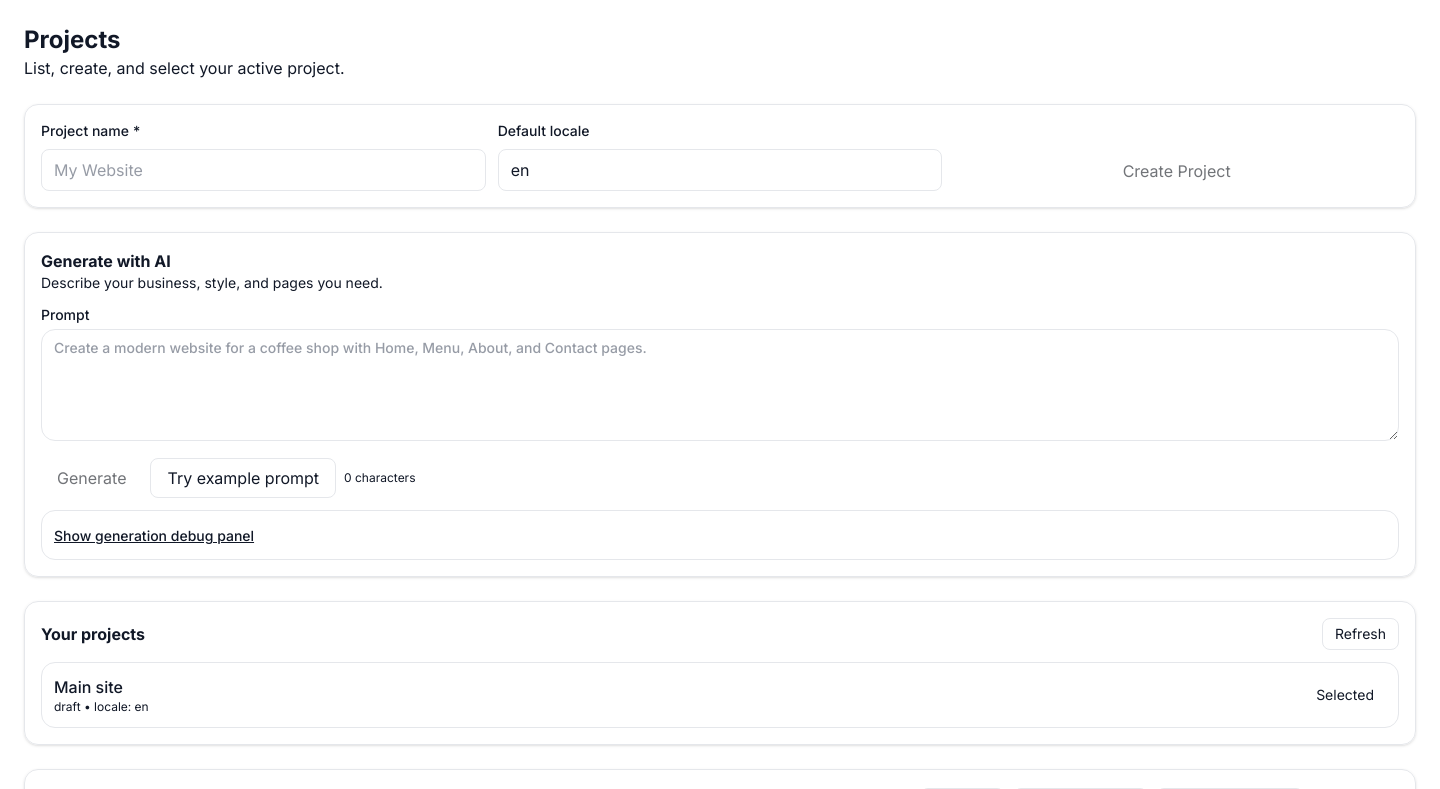
Test: ProjectsApiScreen toasts › shows generation failure message from latest status job
Replace the text in the text box named "AI prompt" with "Create a modern SaaS site for a startup with Home, Pricing, About, and Contact pages." at point(720, 385), box [41,329,1399,441]
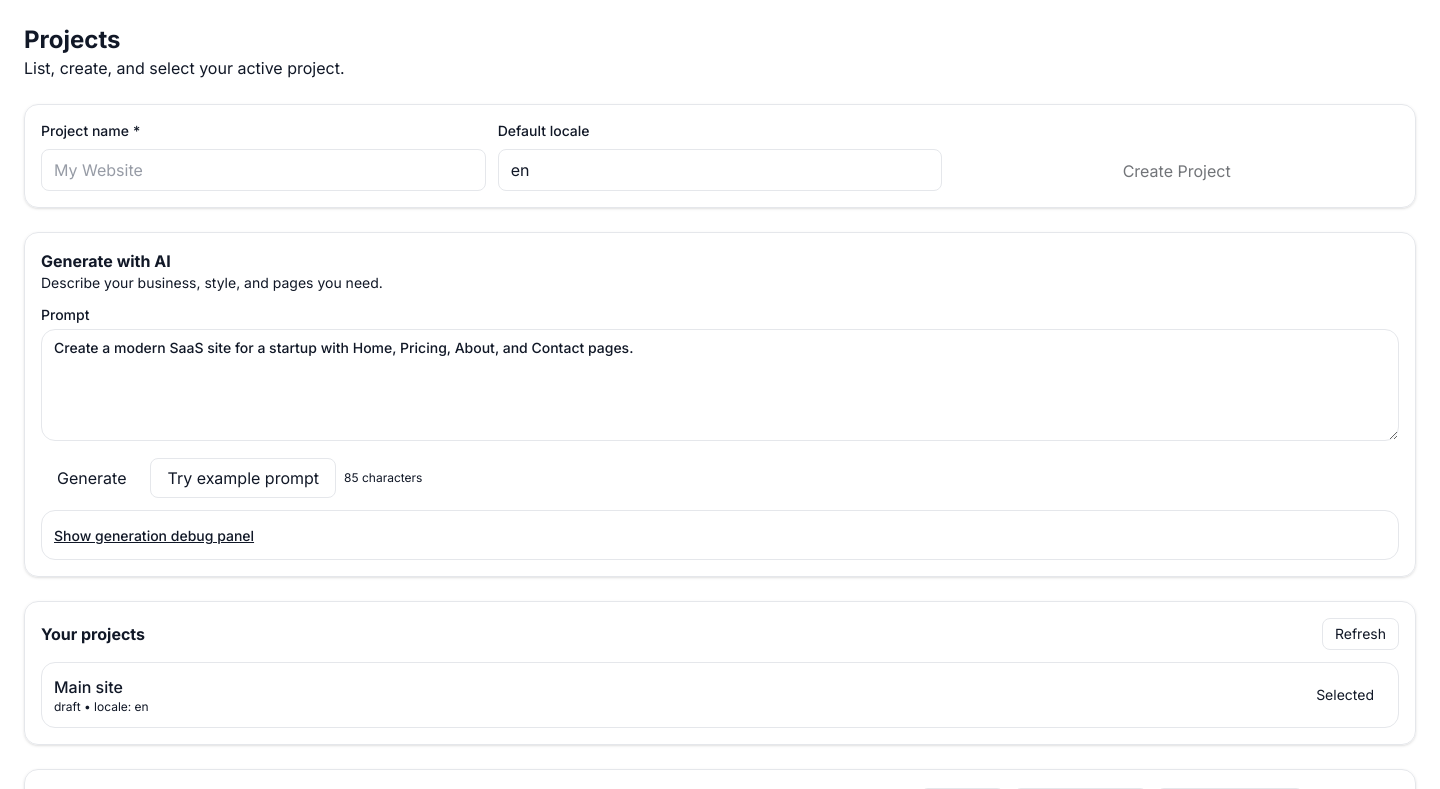
Click the button "Generate" at point(92, 478), box [41,458,142,498]
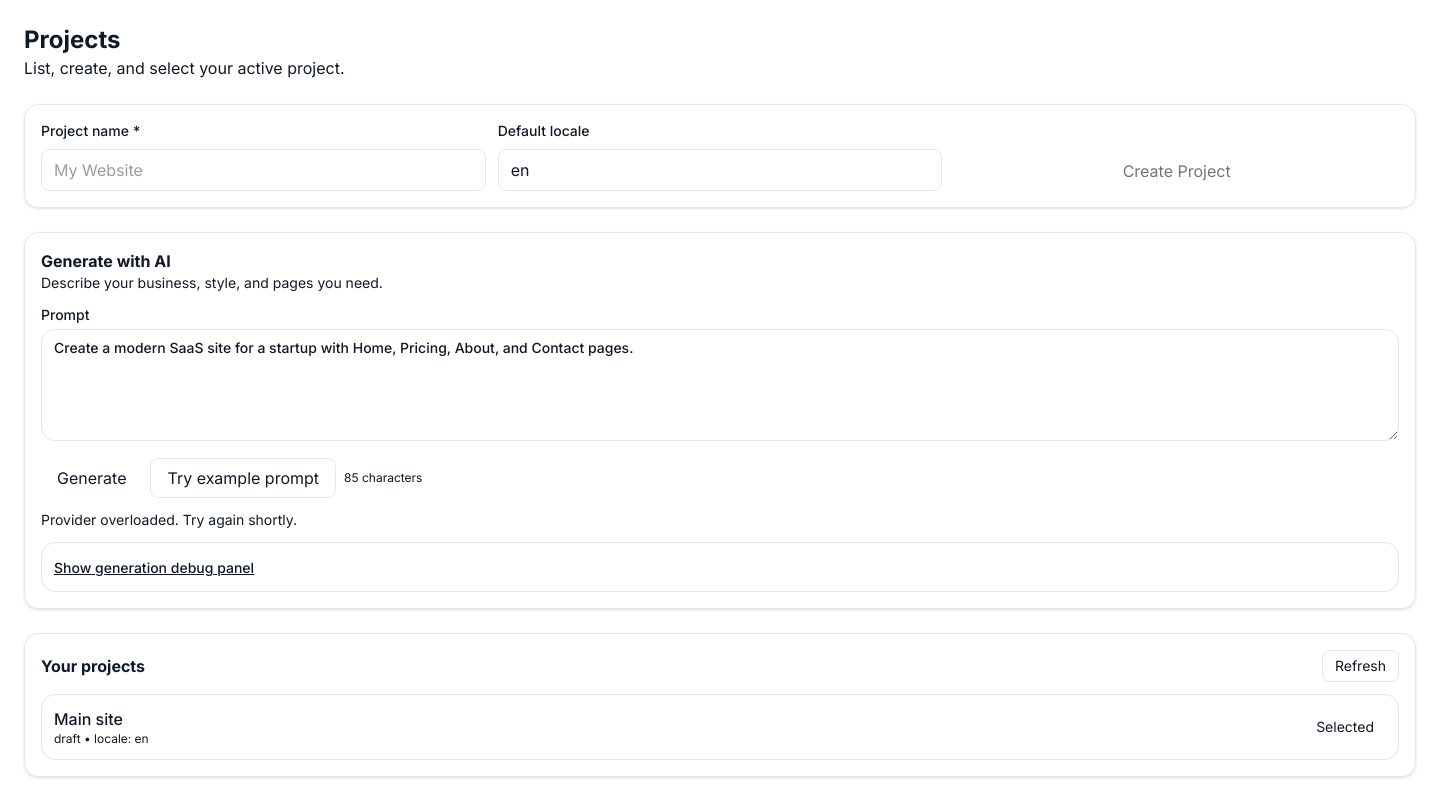
expect the message reads "Provider overloaded. Try again shortly.": met, box [41,511,297,528]
